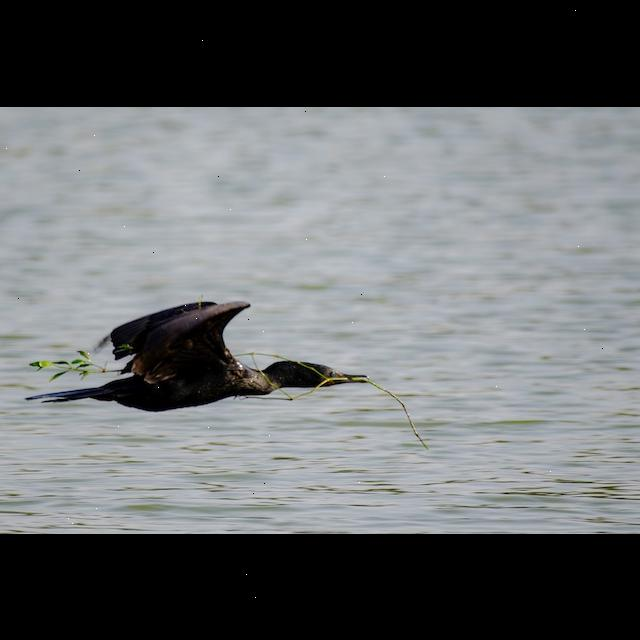cormorant: (29, 297, 368, 409)
